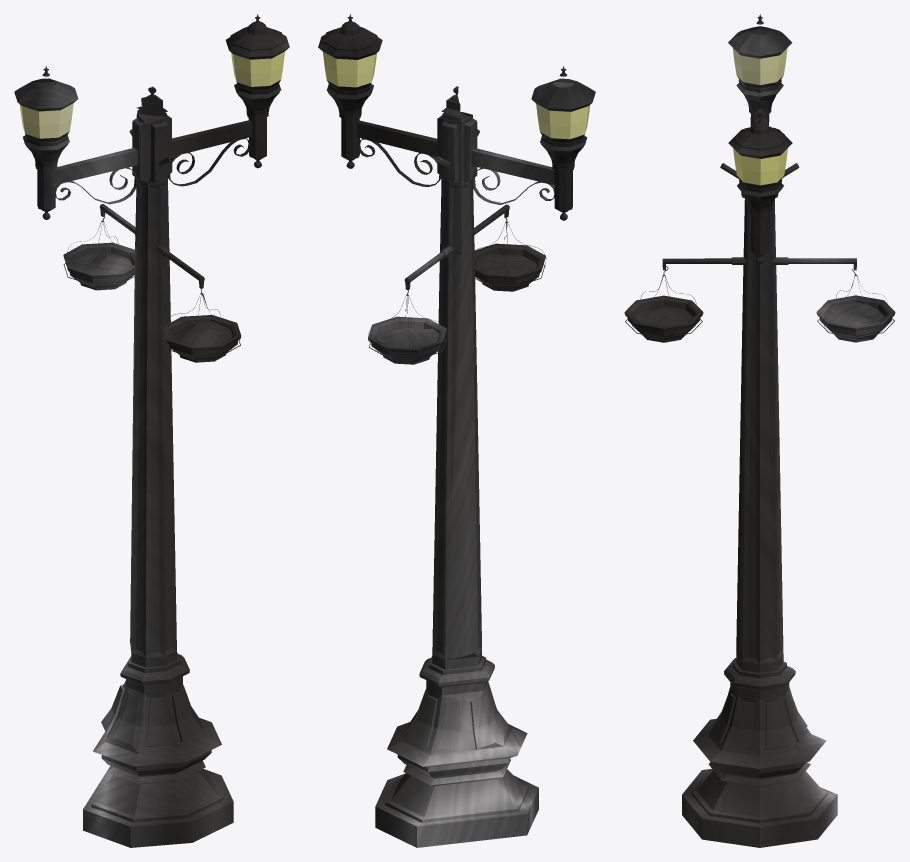
File: lamparas8.obj
The picture shows the model from 3 angles, left to right: view 1: azimuth 30°, elevation 25°; view 2: azimuth 150°, elevation 25°; view 3: azimuth 270°, elevation 25°; orthographic projection. The views are drawn at different scales.
Parts seen in each view (by area): view 1: Streetlight_LowRes4:Streetlight_LowRes1:Streetlight_LowRes Stree; view 2: Streetlight_LowRes4:Streetlight_LowRes1:Streetlight_LowRes Stree; view 3: Streetlight_LowRes4:Streetlight_LowRes1:Streetlight_LowRes Stree.
Boxes of the visible parts, <box> form: Streetlight_LowRes4:Streetlight_LowRes1:Streetlight_LowRes Stree: <box>14,14,289,847</box>; Streetlight_LowRes4:Streetlight_LowRes1:Streetlight_LowRes Stree: <box>318,14,595,847</box>; Streetlight_LowRes4:Streetlight_LowRes1:Streetlight_LowRes Stree: <box>624,14,895,847</box>.
Bounding box in the file's own units: 1.54 × 4.24 × 1.39.
2 materials, 2 textured.
